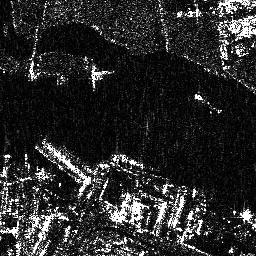ship: (193, 92, 222, 114)
